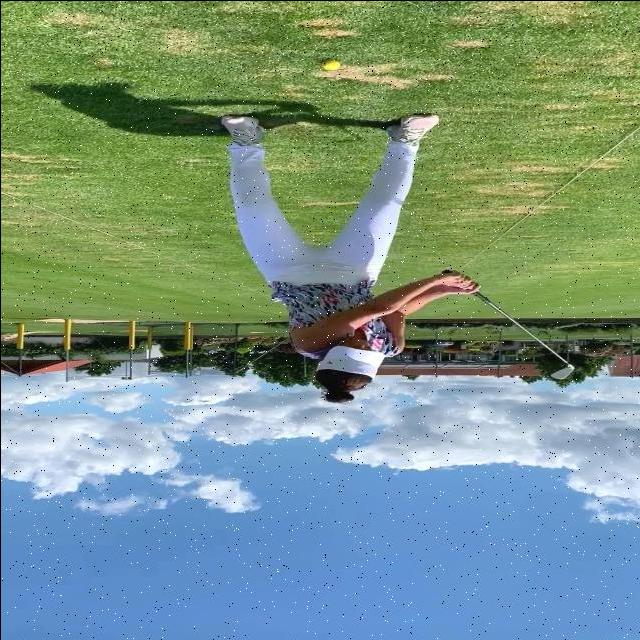ClubHandle: (440, 269, 572, 378)
ClubHead: (549, 366, 572, 378)
GolfBall: (322, 58, 340, 69)
